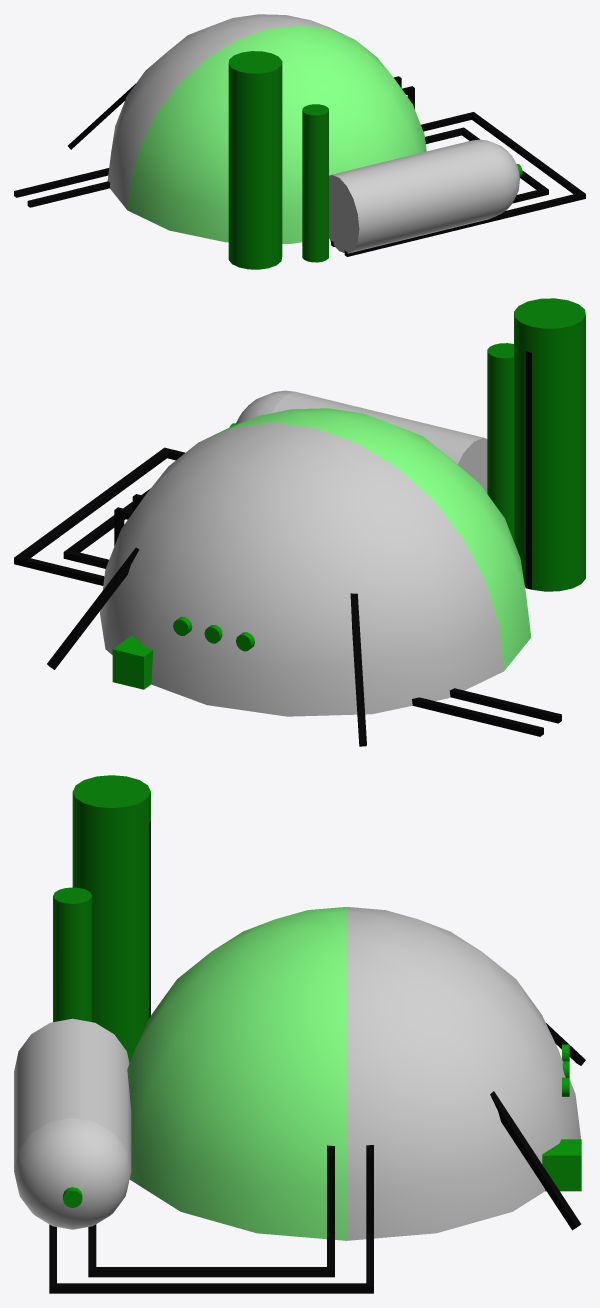
Rendered from ChemicalPlant.glb.
3 renders of one model, top to bottom at view 1: azimuth 30°, elevation 25°; view 2: azimuth 150°, elevation 25°; view 3: azimuth 270°, elevation 25°, orthographic. The views are drawn at different scales.
Parts seen in each view (by area): view 1: Asset3DLoader.sceneRoot; view 2: Asset3DLoader.sceneRoot; view 3: Asset3DLoader.sceneRoot.
Part boxes in pixels (left/top/right/bottom): Asset3DLoader.sceneRoot: left=14, top=14, right=585, bottom=269; Asset3DLoader.sceneRoot: left=14, top=298, right=585, bottom=746; Asset3DLoader.sceneRoot: left=14, top=775, right=585, bottom=1293.
Size of the model in its own units: 9.1 by 4.07 by 7.31.
